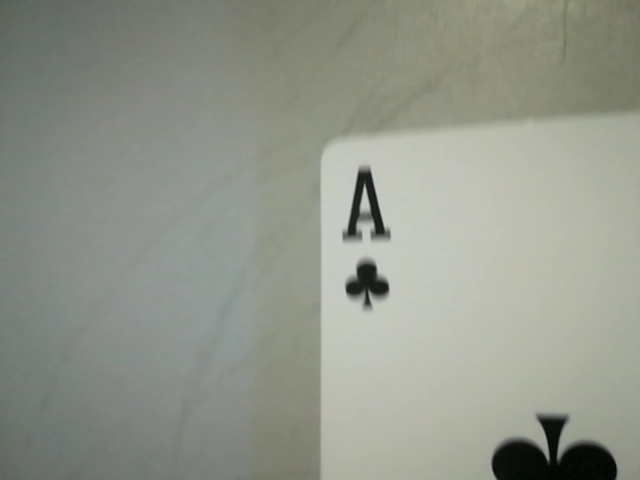mh a: (326, 153, 412, 319)
